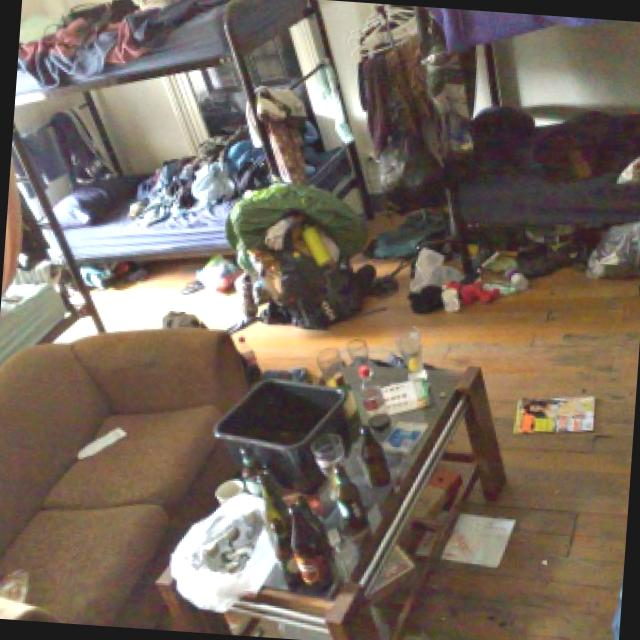mess: (160, 319, 512, 602), (10, 0, 343, 219), (0, 300, 164, 628), (224, 217, 640, 345), (329, 110, 640, 244), (4, 144, 229, 260)
